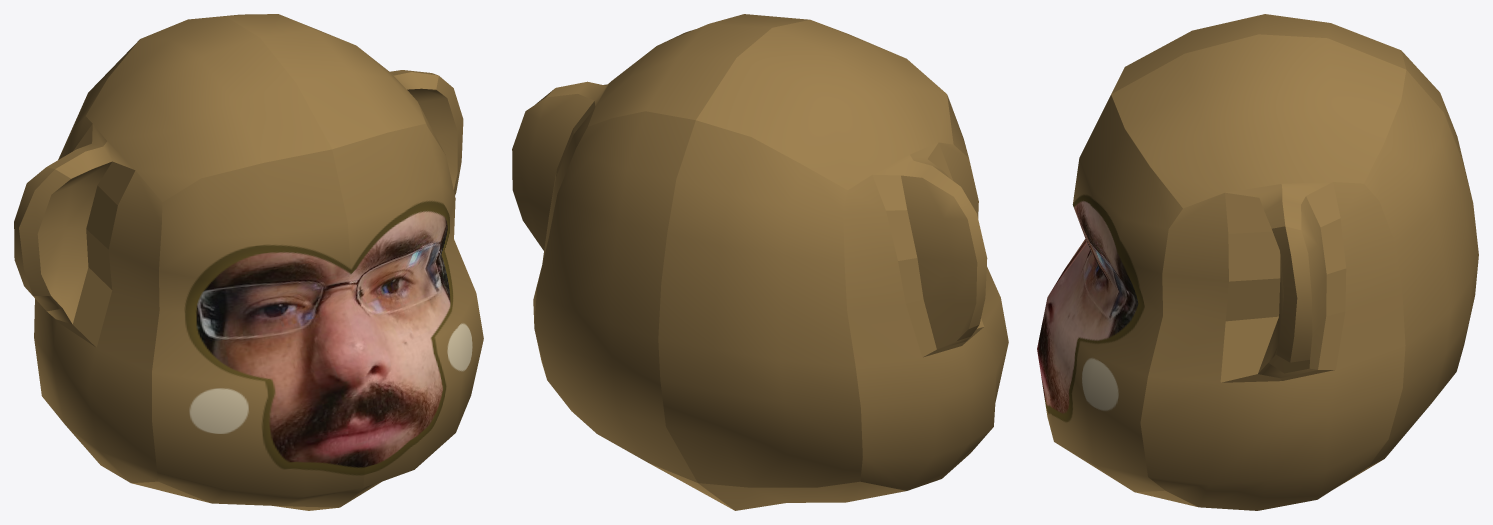
The model's file is GJ2017_Monoemoji_25092017_texture.fbx.
3 renders of one model, left to right at view 1: azimuth 30°, elevation 25°; view 2: azimuth 150°, elevation 25°; view 3: azimuth 270°, elevation 25°, orthographic. The views are drawn at different scales.
Visible parts, largest first — view 1: SM_Monkey8; view 2: SM_Monkey8; view 3: SM_Monkey8.
Boxes of the visible parts, x1=… form: SM_Monkey8: x1=14, y1=14, x2=483, y2=510; SM_Monkey8: x1=512, y1=14, x2=1008, y2=510; SM_Monkey8: x1=1037, y1=14, x2=1478, y2=510.
Bounding box in the file's own units: 16.92 × 16.34 × 14.25.
